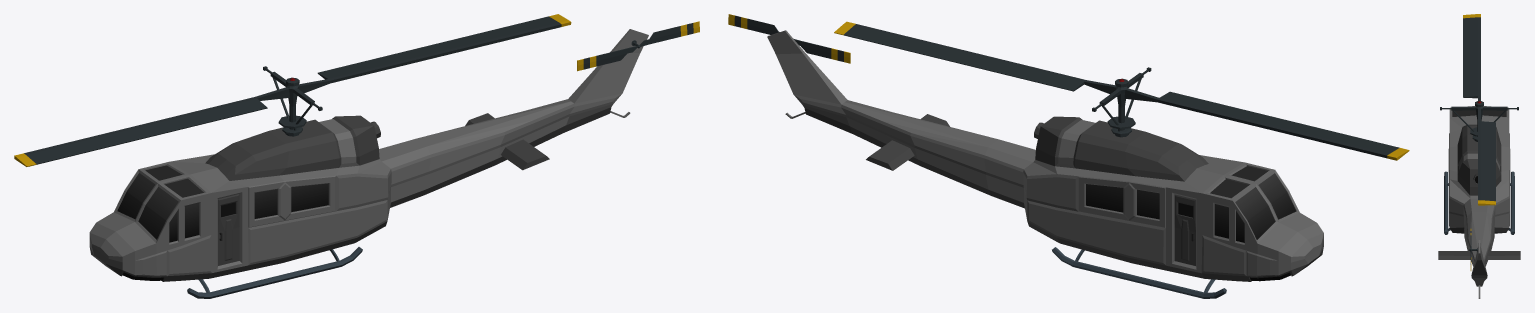
The model's file is HelicopterV1.glb.
3 views of the same model, side by side, from view 1: azimuth 30°, elevation 25°; view 2: azimuth 150°, elevation 25°; view 3: azimuth 270°, elevation 25° (orthographic). The views are drawn at different scales.
Parts seen in each view (by area): view 1: HelicopterV1, HelicopterV1_Rotor, HelicopterV1_TailRotor; view 2: HelicopterV1, HelicopterV1_Rotor, HelicopterV1_TailRotor; view 3: HelicopterV1, HelicopterV1_Rotor, HelicopterV1_TailRotor.
Part boxes in pixels (x1=…): HelicopterV1: x1=89, y1=29, x2=648, y2=298; HelicopterV1_Rotor: x1=14, y1=14, x2=571, y2=166; HelicopterV1_TailRotor: x1=577, y1=21, x2=699, y2=71; HelicopterV1: x1=767, y1=30, x2=1323, y2=298; HelicopterV1_Rotor: x1=834, y1=21, x2=1409, y2=160; HelicopterV1_TailRotor: x1=728, y1=14, x2=850, y2=63; HelicopterV1: x1=1438, y1=106, x2=1520, y2=298; HelicopterV1_Rotor: x1=1440, y1=14, x2=1518, y2=205; HelicopterV1_TailRotor: x1=1469, y1=229, x2=1477, y2=270.
Size of the model in its own units: 1.54 by 0.3822 by 0.2304.
1 material, 1 textured.
